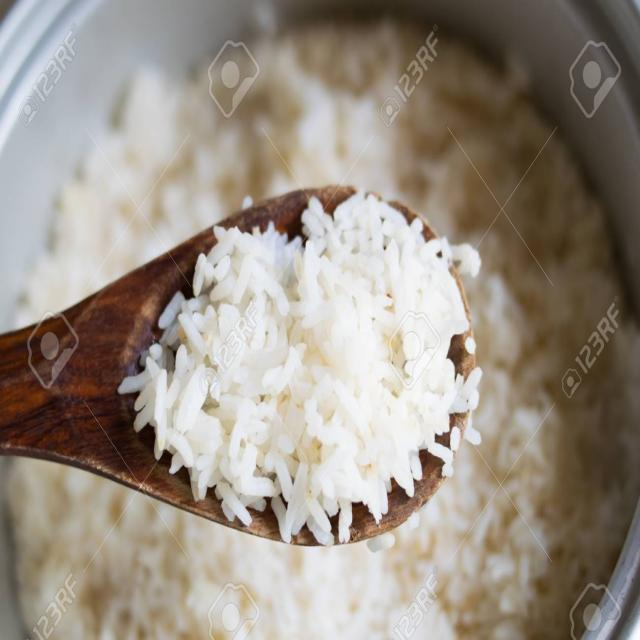arroz: (117, 175, 486, 543)
